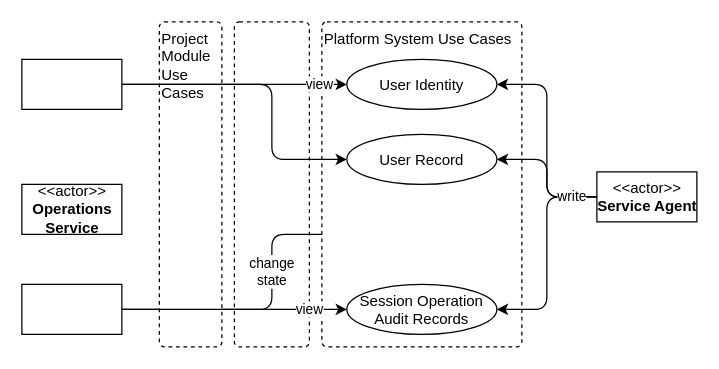
Some shapes in this 719 by 369 pixel diagram are drawn without their labels. Here are the shapes that lost their labels. From the top down, the centre of each, then its label:
(71,83): <<actor>> Support Services
(271,184): Platform Use Cases
(71,308): <<actor>> Security Services
